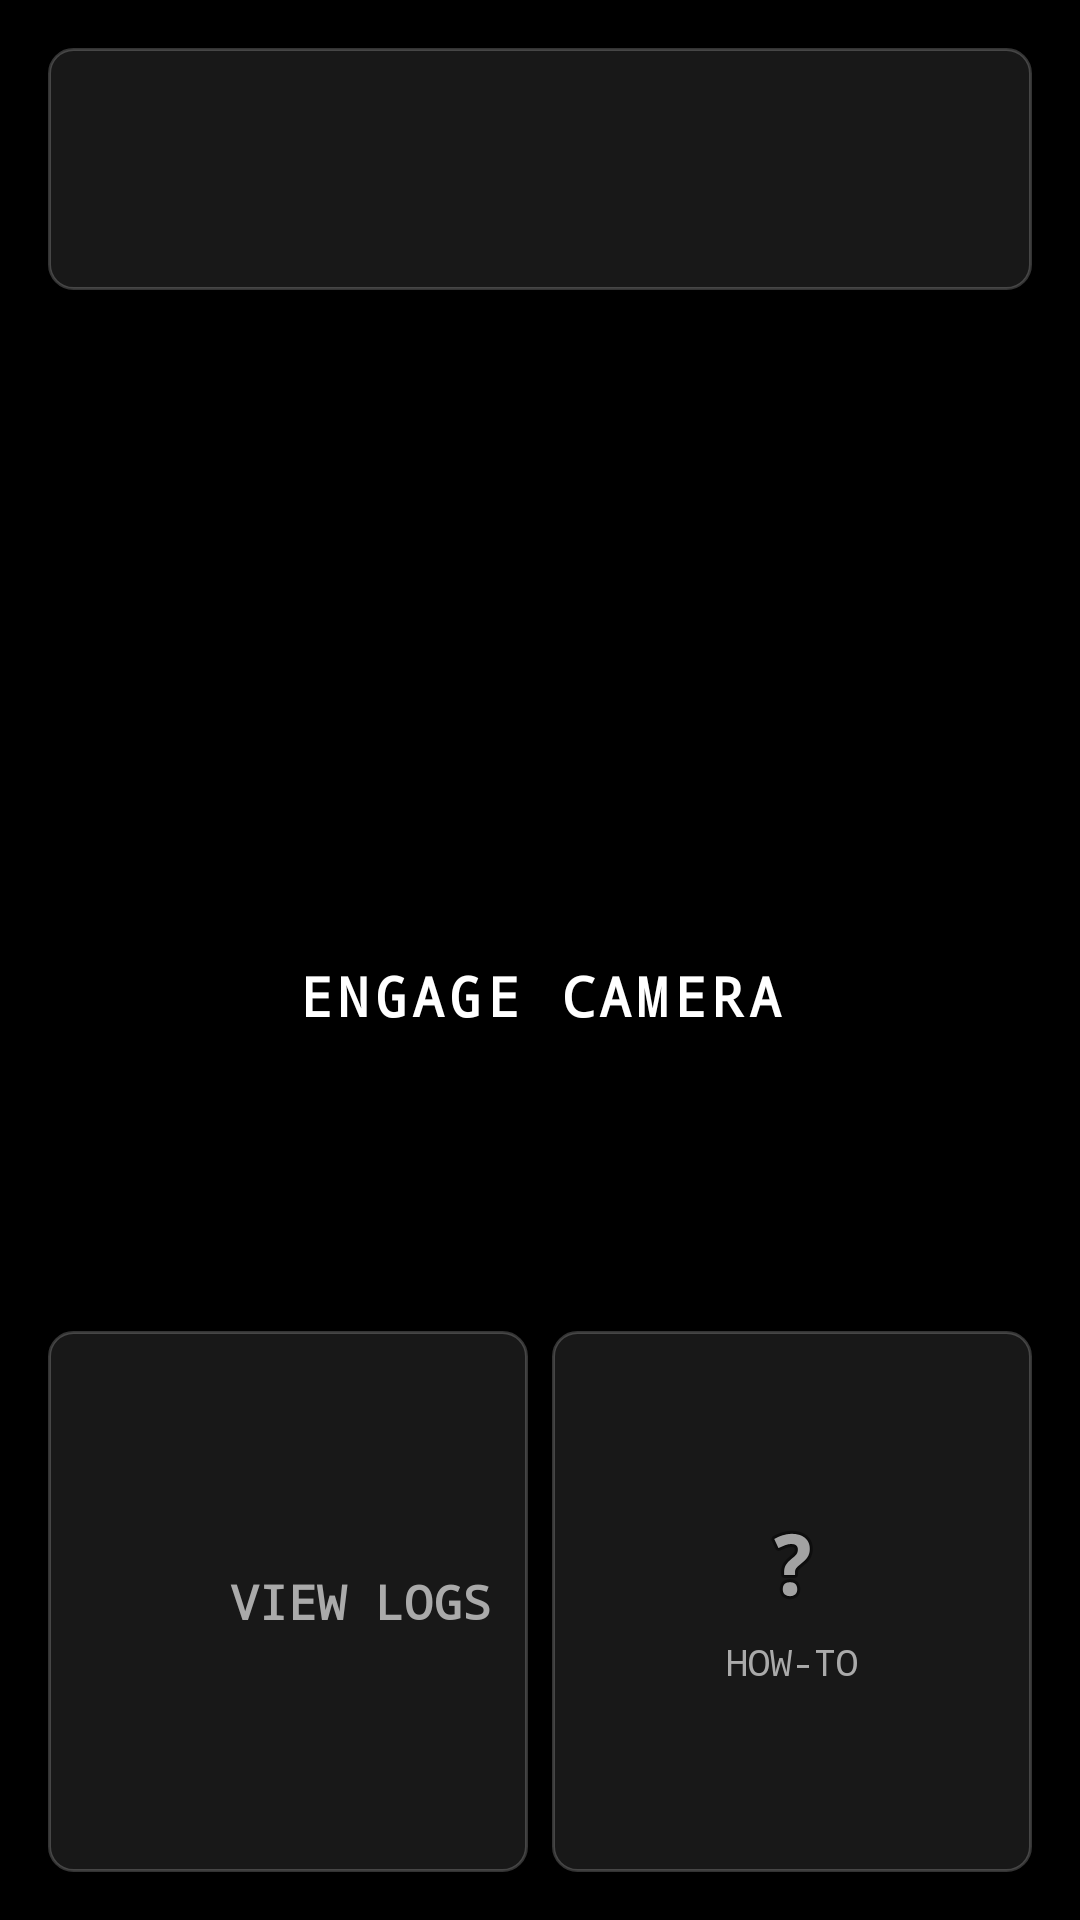

Screen size 1080×1920. Icon name, then its center in pixels as (x,y):
help: (792,1565)
